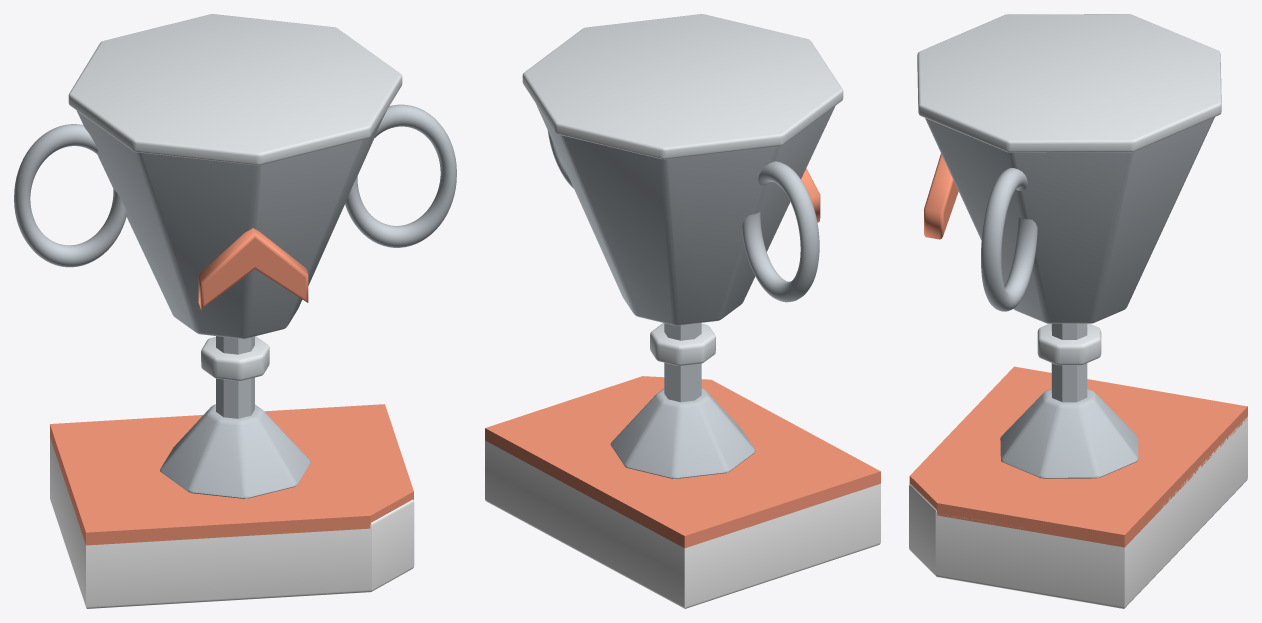
File: trophy.glb
The picture shows the model from 3 angles, left to right: view 1: azimuth 30°, elevation 25°; view 2: azimuth 150°, elevation 25°; view 3: azimuth 270°, elevation 25°; orthographic projection. The views are drawn at different scales.
Parts seen in each view (by area): view 1: titan.trophy.lip, titan.trophy.band, titan.trophy.cup, titan.trophy.base, titan.trophy.foot, titan.trophy.handle.-1, titan.trophy.handle.1, titan.trophy.mark, titan.trophy.knot, titan.trophy.stem; view 2: titan.trophy.lip, titan.trophy.cup, titan.trophy.band, titan.trophy.base, titan.trophy.foot, titan.trophy.handle.-1, titan.trophy.knot, titan.trophy.stem; view 3: titan.trophy.lip, titan.trophy.cup, titan.trophy.band, titan.trophy.base, titan.trophy.foot, titan.trophy.handle.1, titan.trophy.knot, titan.trophy.stem, titan.trophy.mark.
Part boxes in pixels (box(x1,y1,x2,y2)): titan.trophy.lip: box(68, 14, 402, 165); titan.trophy.band: box(50, 404, 413, 545); titan.trophy.cup: box(77, 111, 386, 338); titan.trophy.base: box(50, 438, 414, 608); titan.trophy.foot: box(160, 404, 310, 498); titan.trophy.handle.-1: box(14, 124, 126, 267); titan.trophy.handle.1: box(345, 104, 456, 247); titan.trophy.mark: box(198, 228, 308, 309); titan.trophy.knot: box(201, 336, 269, 380); titan.trophy.stem: box(216, 336, 254, 418); titan.trophy.lip: box(522, 14, 843, 159); titan.trophy.cup: box(536, 104, 835, 325); titan.trophy.band: box(485, 376, 880, 548); titan.trophy.base: box(485, 440, 880, 608); titan.trophy.foot: box(610, 388, 755, 478); titan.trophy.handle.-1: box(742, 161, 819, 302); titan.trophy.knot: box(650, 323, 715, 365); titan.trophy.stem: box(664, 323, 701, 402); titan.trophy.lip: box(917, 14, 1221, 152); titan.trophy.cup: box(925, 117, 1214, 323); titan.trophy.band: box(909, 366, 1247, 547); titan.trophy.base: box(909, 416, 1247, 608); titan.trophy.foot: box(1000, 388, 1138, 478); titan.trophy.handle.1: box(981, 168, 1037, 311); titan.trophy.knot: box(1037, 323, 1101, 365); titan.trophy.stem: box(1051, 323, 1087, 402); titan.trophy.mark: box(924, 153, 958, 239).
Bounding box in the file's own units: 1.06 × 1.3 × 0.887.
